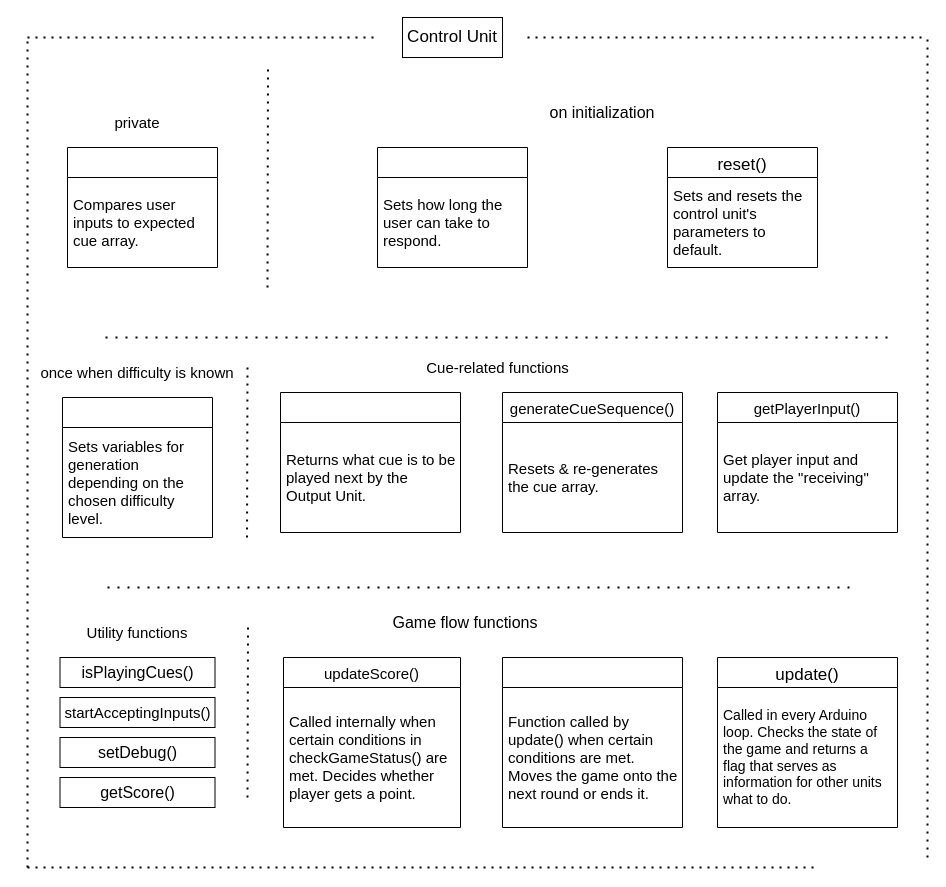
Image size: 946x887. Some labels were removed from this diagram. Here are the shapes that lost their labels. From the top down, the box of each, then its label:
(66, 146, 218, 268): compareArrays()
(376, 146, 528, 268): setUnitResponse()
(62, 396, 212, 538): setDifficulty()
(280, 392, 460, 532): accessCurrentCue()
(502, 656, 682, 828): checkGameStatus()
